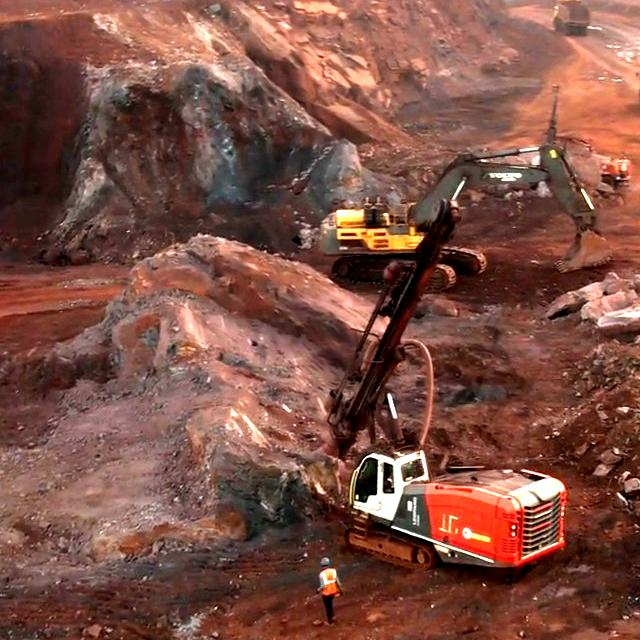Blast rig: (348, 455, 562, 558)
Dumper truck: (551, 0, 588, 32)
Excavator: (320, 201, 462, 268)
person: (319, 566, 341, 622)
